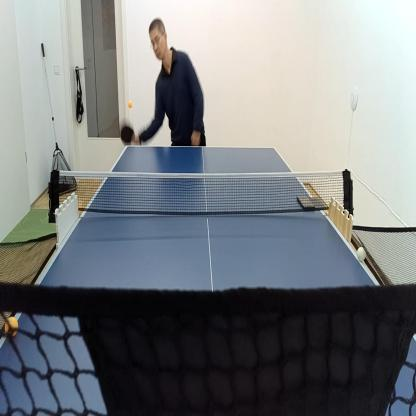Ball: (3, 315, 20, 340), (356, 243, 366, 264), (77, 201, 85, 218), (127, 99, 133, 111)
